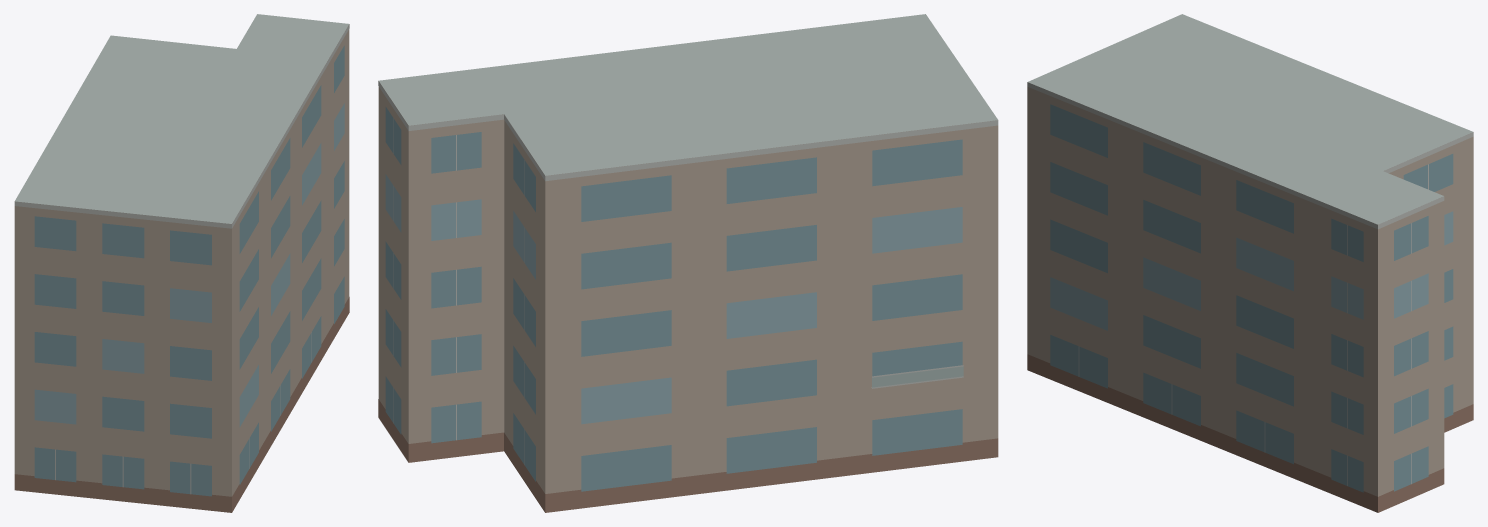
The model's file is survey-upis-32884200.glb.
The picture shows the model from 3 angles, left to right: view 1: azimuth 30°, elevation 25°; view 2: azimuth 150°, elevation 25°; view 3: azimuth 270°, elevation 25°; orthographic projection. The views are drawn at different scales.
Visible parts, largest first — view 1: survey-upis-32884200.tmp; view 2: survey-upis-32884200.tmp; view 3: survey-upis-32884200.tmp.
Boxes of the visible parts, left/top/right/bottom form: survey-upis-32884200.tmp: left=14, top=14, right=349, bottom=512; survey-upis-32884200.tmp: left=378, top=14, right=998, bottom=512; survey-upis-32884200.tmp: left=1027, top=14, right=1473, bottom=512.
Bounding box in the file's own units: 23.93 × 15.25 × 21.41.
